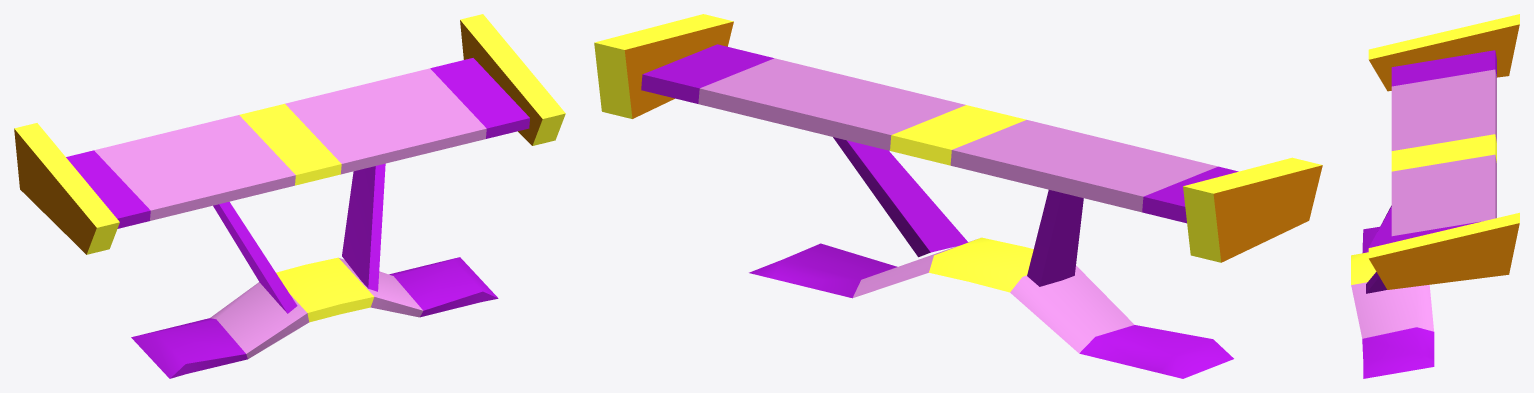
File: LuxSpoiler00E01.gltf
The picture shows the model from 3 angles, left to right: view 1: azimuth 30°, elevation 25°; view 2: azimuth 150°, elevation 25°; view 3: azimuth 270°, elevation 25°; orthographic projection. The views are drawn at different scales.
Parts seen in each view (by area): view 1: LuxSpoiler00E01; view 2: LuxSpoiler00E01; view 3: LuxSpoiler00E01.
Boxes of the visible parts, bbox=[...] form: LuxSpoiler00E01: bbox=[14, 14, 565, 378]; LuxSpoiler00E01: bbox=[594, 14, 1322, 378]; LuxSpoiler00E01: bbox=[1351, 14, 1519, 378].
Size of the model in its own units: 0.1729 by 0.0722 by 0.059.
